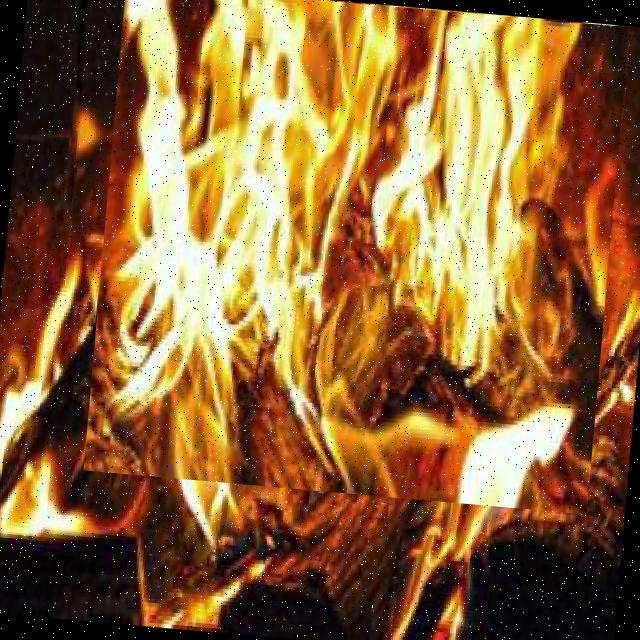fire: (83, 0, 629, 514)
